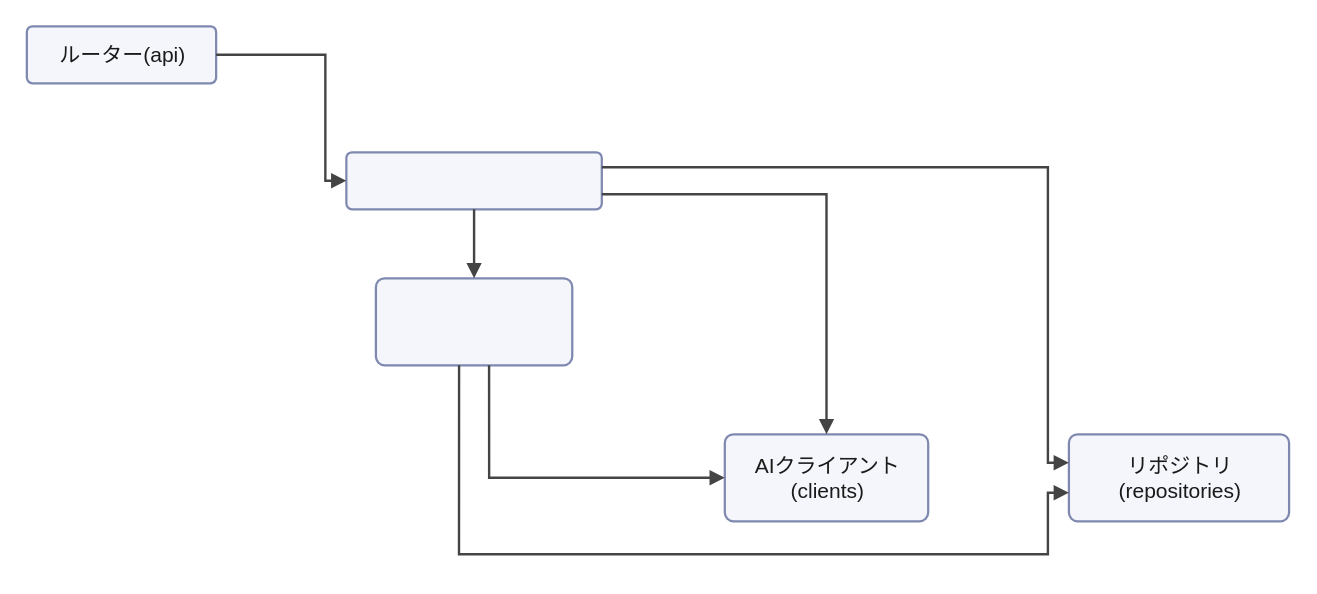
Some shapes in this 1317 by 594 pixel diagram are drawn without their labels. Each missing label, with the centre of its shape:
"サービス(services)" belongs at (x=473, y=180).
"非同期ワーカー (workers)" belongs at (x=473, y=321).
